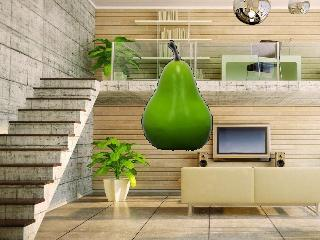pear: (137, 37, 220, 154)
